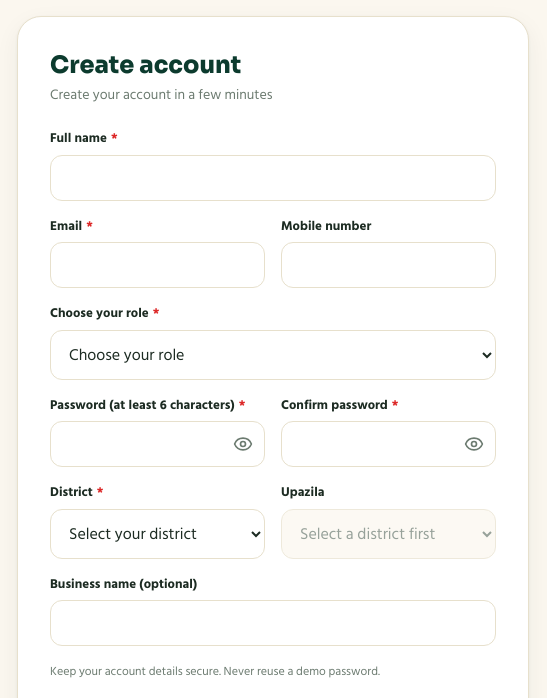
Test: RegisterPage password visibility toggle › toggles the password field between hidden and visible, keeping the value
The image size is (547, 698).
Later steps or results of the test are not shown.
Type "123456" into the password field named "password".
click(158, 444); type("123456")  # box [50,421,265,467]
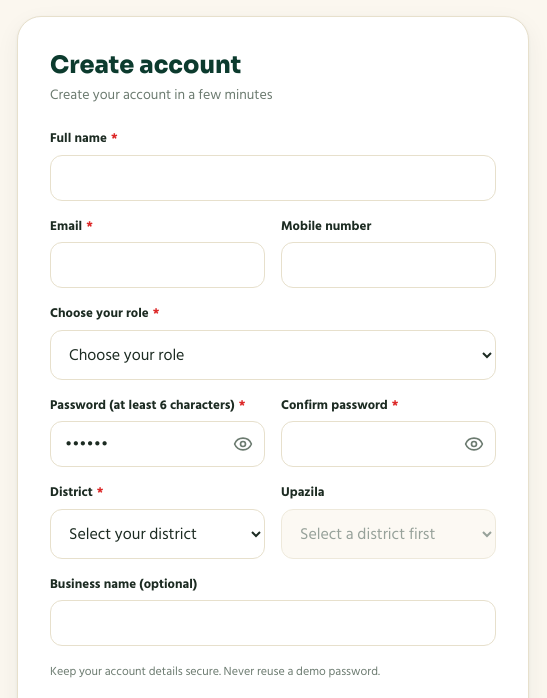
Click the button named "Show password" below "Password (at least 6 characters)".
click(243, 444)  # box [221,421,265,467]
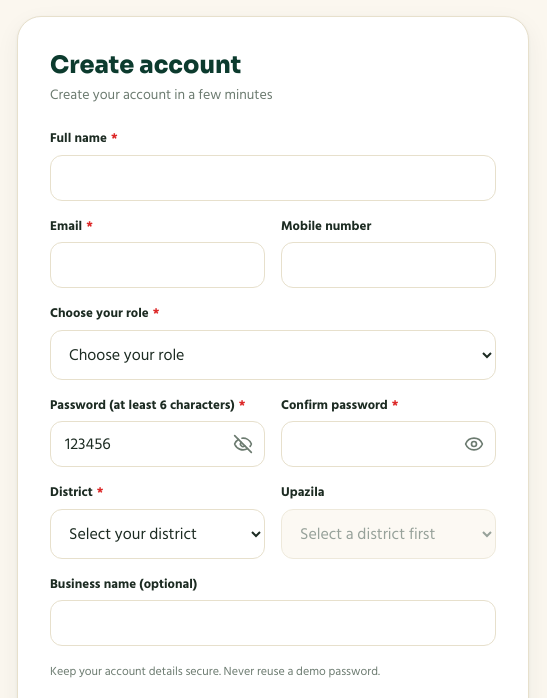
Expected: the button named "Hide password" is shown, [221,421,265,467]
